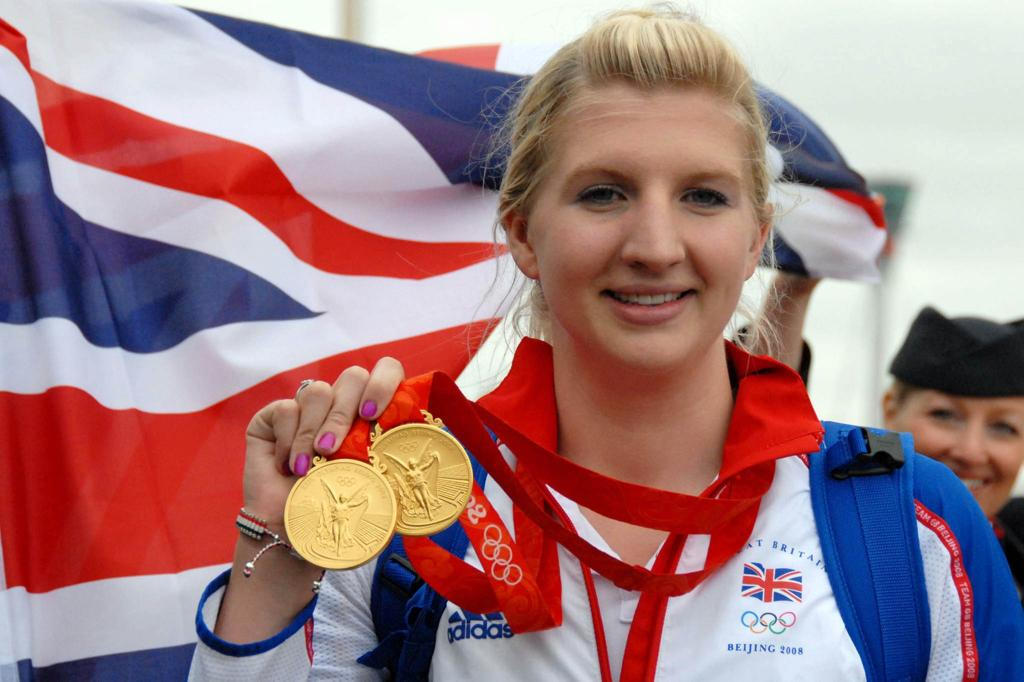face: (528, 104, 756, 372), (898, 370, 1020, 528)
